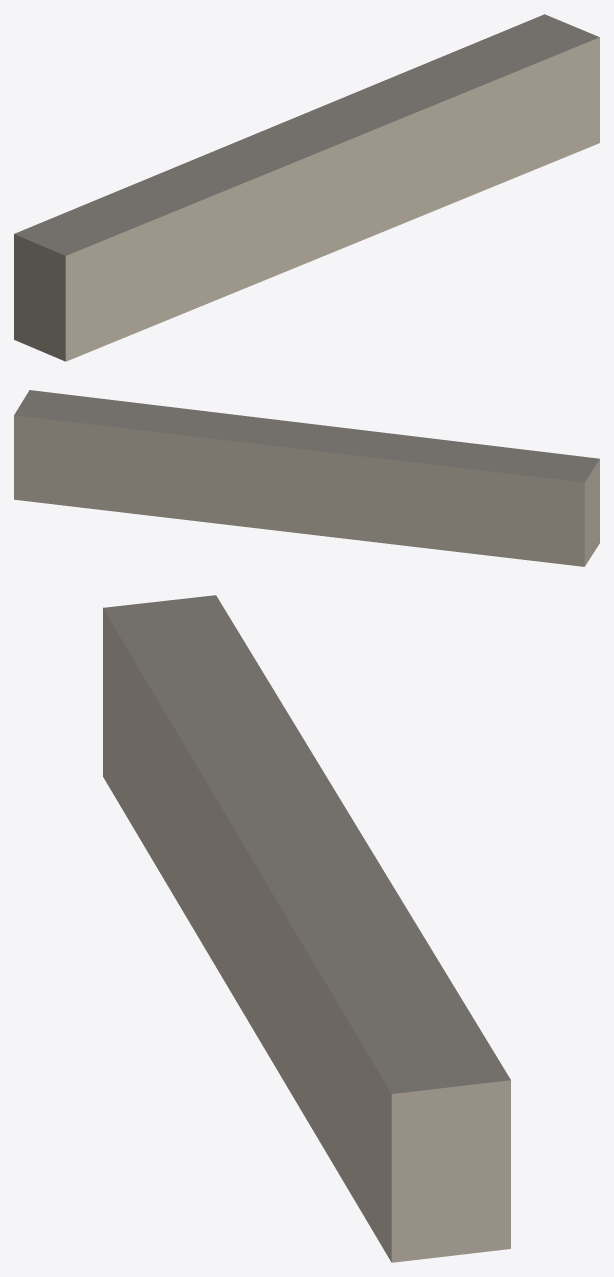
The picture shows the model from 3 angles, top to bottom: view 1: azimuth 30°, elevation 25°; view 2: azimuth 150°, elevation 25°; view 3: azimuth 270°, elevation 25°; orthographic projection. The views are drawn at different scales.
Parts seen in each view (by area): view 1: HP-w757510116; view 2: HP-w757510116; view 3: HP-w757510116.
Part boxes in pixels (x1,y1,x2,y2): HP-w757510116: (14,14,599,361); HP-w757510116: (14,390,599,566); HP-w757510116: (103,595,510,1262).
Bounding box in the file's own units: 114 × 18 × 39.46.
